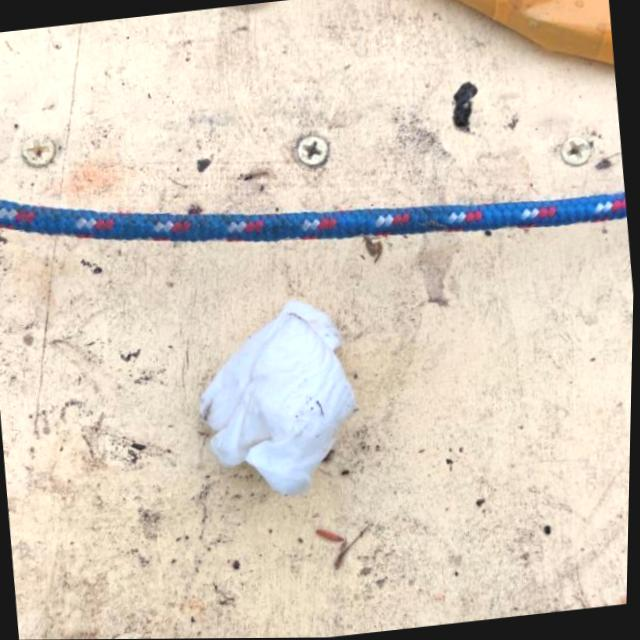Paper: (184, 294, 370, 507)
